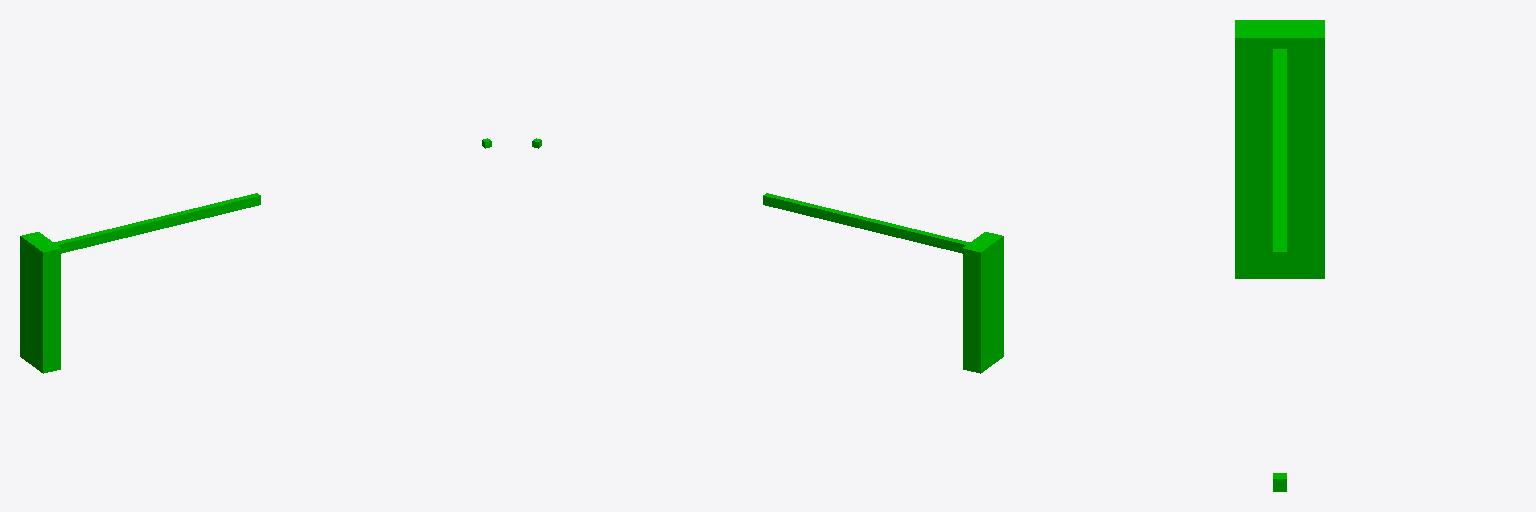
URDF robot description (simple_green_crane):
<?xml version="1.0"?>
<robot name="simple_green_crane">

<material name="green">
    <color rgba="0 0.8 0 1"/>
  </material>

  <link name="base_link">
    <visual>
      <geometry>
        <box size="0.3 0.65 1.912"/>
      </geometry>
      <origin xyz="0 0 0.956"/> 
      <material name="green"/>
    </visual>
  </link>

  <link name="crane_boom">
    <visual>
    <origin rpy="0 0 0" xyz="1.76 0 0"/>
      <geometry>
        <box size="3.68 0.1 0.15"/>
      </geometry>
      <material name="green"/>
    </visual>
  </link>

  <joint name="base_to_crane_boom" type="revolute">
  <axis xyz="0 1 0"/>
  <limit effort="1000.0" lower="0.3267" upper="-0.6948" velocity="0.5"/>
    <parent link="base_link"/>
    <child link="crane_boom"/>
    <origin rpy="0 0 0" xyz="0 0 1.752"/>
  </joint>


    <link name="tp">
    <visual>
    <origin rpy="0 0 0" xyz="3.68 0 0"/>
      <geometry>
        <box size="0.1 0.1 0.1"/>
      </geometry>
      <material name="green"/>
    </visual>
  </link>

  <joint name="boom_to_tp" type="fixed">
    <parent link="crane_boom"/>
    <child link="tp"/>
    <origin rpy="0 0 0" xyz="3.68 0 0"/>
  </joint>

</robot>

--- What the picture shows (computed from the rendered views, not written in the file) ---
The picture shows the robot from 3 angles, left to right: view 1: azimuth 30°, elevation 25°; view 2: azimuth 150°, elevation 25°; view 3: azimuth 270°, elevation 25°; orthographic projection.
Model simple_green_crane with 3 links and 2 joints (1 revolute, 1 fixed), rooted at base_link, posed all joints at 0.
Links seen in each view (by area): view 1: base_link, crane_boom; view 2: base_link, crane_boom; view 3: base_link, crane_boom.
Link boxes in pixels (left/top/right/bottom): base_link: left=20, top=232, right=60, bottom=373; crane_boom: left=54, top=193, right=260, bottom=253; base_link: left=963, top=232, right=1003, bottom=373; crane_boom: left=763, top=193, right=969, bottom=253; base_link: left=1235, top=20, right=1324, bottom=278; crane_boom: left=1273, top=49, right=1286, bottom=270.
Size in the robot's own frame: 7.56 by 0.65 by 1.91 metres.
Geometry: primitives only (box / cylinder / sphere), no mesh files.